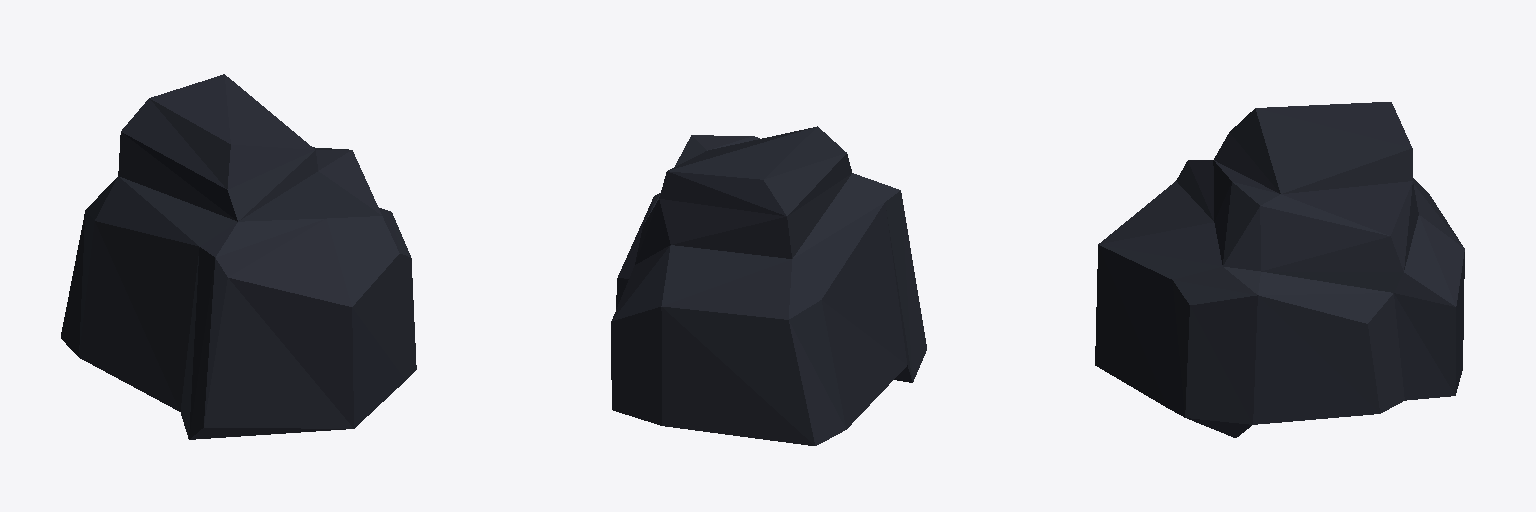
Rendered from Rock_7.obj.
3 renders of one model, left to right at view 1: azimuth 30°, elevation 25°; view 2: azimuth 150°, elevation 25°; view 3: azimuth 270°, elevation 25°, orthographic.
Visible parts, largest first — view 1: Rock_7_Cube.030; view 2: Rock_7_Cube.030; view 3: Rock_7_Cube.030.
Part boxes in pixels (left/top/right/bottom): Rock_7_Cube.030: left=61, top=74, right=416, bottom=439; Rock_7_Cube.030: left=611, top=126, right=926, bottom=445; Rock_7_Cube.030: left=1095, top=102, right=1464, bottom=437.
Bounding box in the file's own units: 0.8755 × 0.8494 × 1.1.